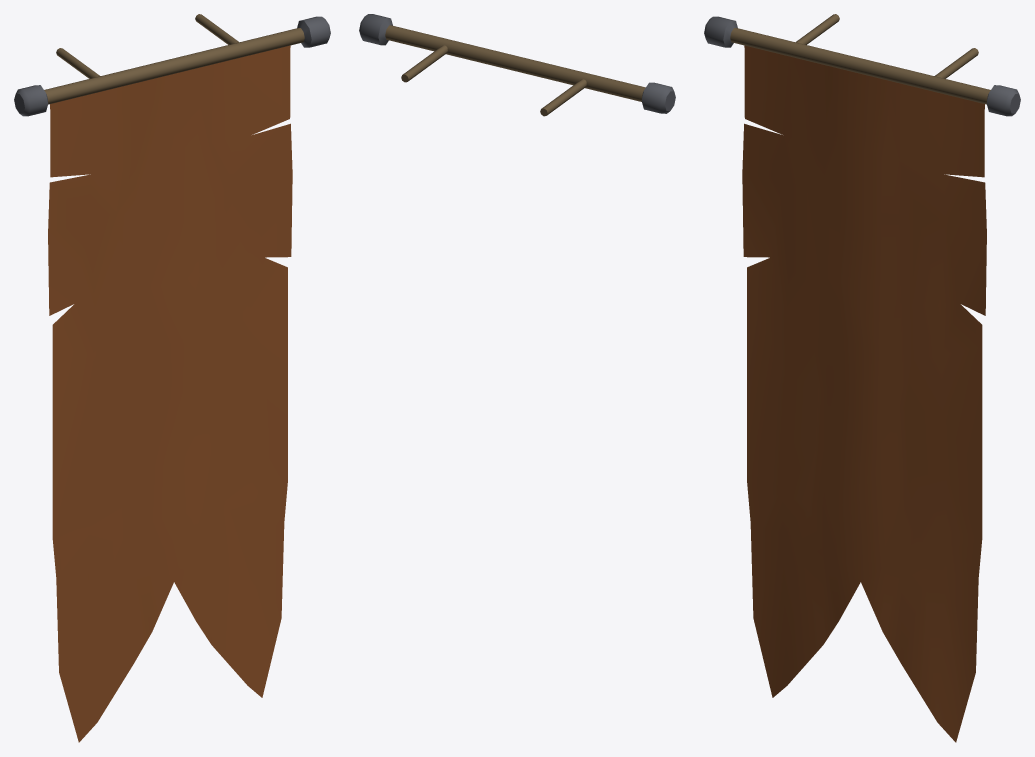
File: quaternius-ultimate-modular-ruins-flag-wall-2.glb
3 renders of one model, left to right at view 1: azimuth 30°, elevation 25°; view 2: azimuth 150°, elevation 25°; view 3: azimuth 330°, elevation 25°, orthographic.
Parts seen in each view (by area): view 1: Flag_Wall2; view 2: Flag_Wall2; view 3: Flag_Wall2.
Part boxes in pixels (x1,y1,x2,y2): Flag_Wall2: [14, 14, 330, 742]; Flag_Wall2: [359, 14, 675, 116]; Flag_Wall2: [704, 14, 1020, 742].
Size of the model in its own units: 1.13 by 2.35 by 0.3225.
